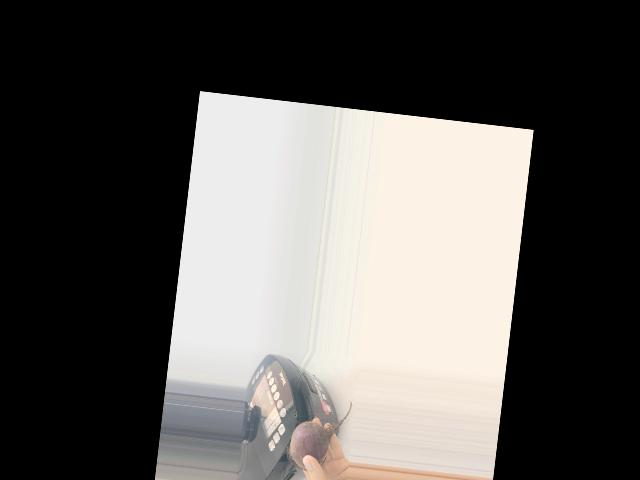beet: (285, 394, 352, 474)
